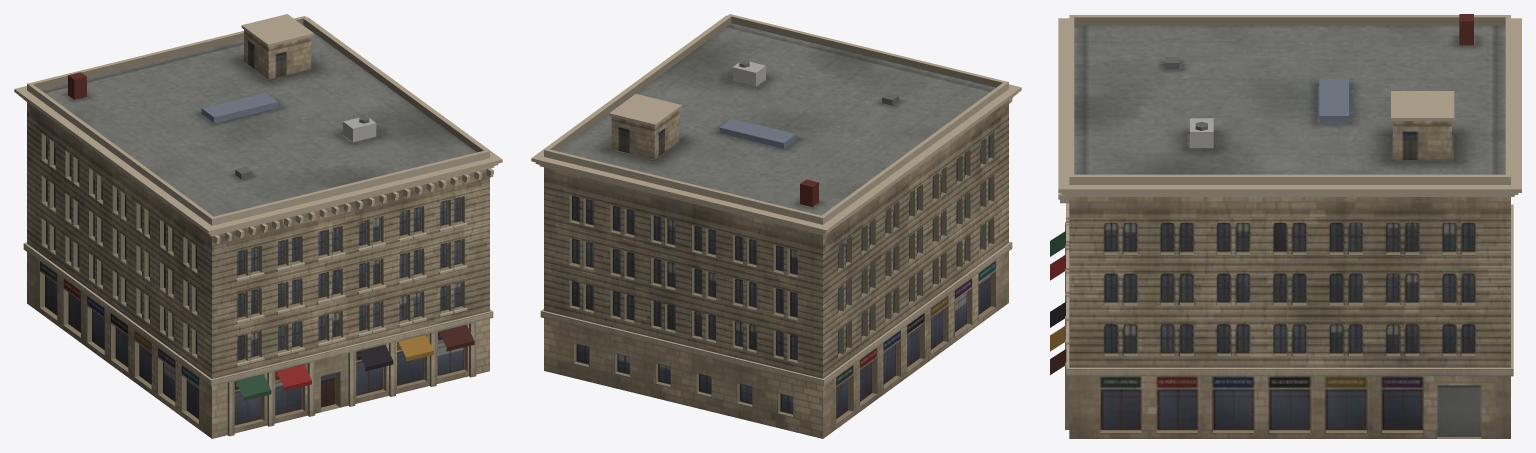
The model's file is seattle_pioneer_c.glb.
3 renders of one model, left to right at view 1: azimuth 30°, elevation 25°; view 2: azimuth 150°, elevation 25°; view 3: azimuth 270°, elevation 25°, orthographic. The views are drawn at different scales.
Parts seen in each view (by area): view 1: seattle_pioneer_c; view 2: seattle_pioneer_c; view 3: seattle_pioneer_c.
Part boxes in pixels (bbox=[...]): seattle_pioneer_c: bbox=[14, 14, 502, 438]; seattle_pioneer_c: bbox=[531, 14, 1021, 438]; seattle_pioneer_c: bbox=[1050, 14, 1521, 438].
Size of the model in its own units: 27.5 by 22.27 by 32.05.
Materials: 1 (1 with a texture image).
